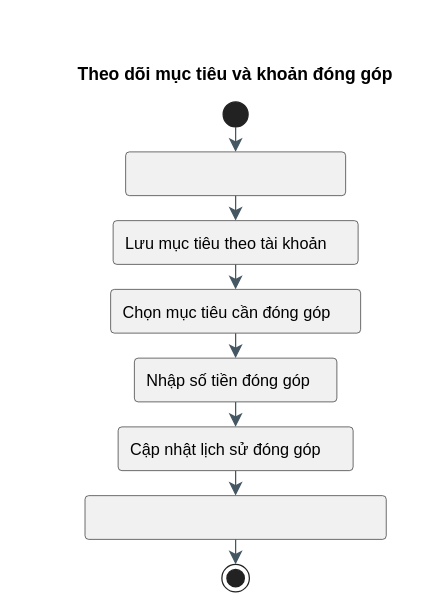
Image size: 433x614. Some labels were removed from this diagram. The centre of each missing label's shape, as x and y in pixels:
"Tính tiến độ và trạng thái mục tiêu" belongs at point 235,517.
"Tạo mục tiêu và thời hạn" belongs at point 235,173.
